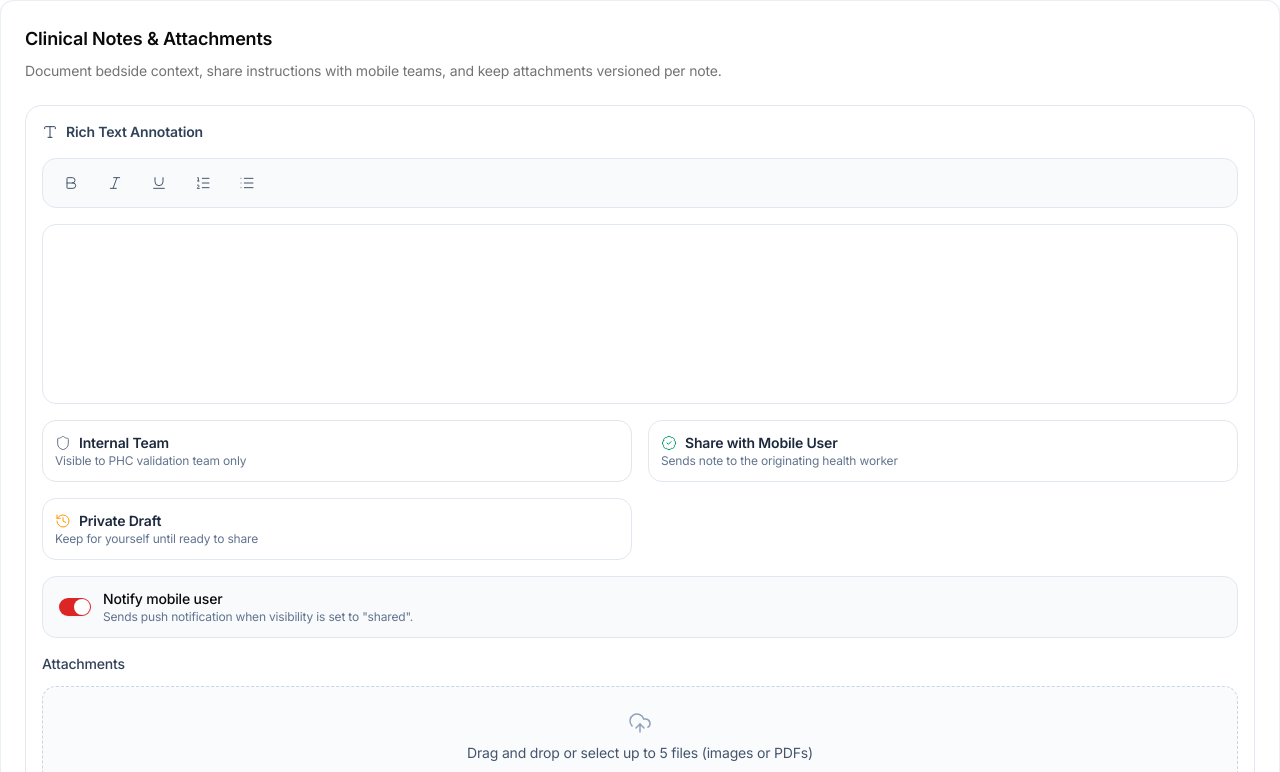
Test case: ClinicalNotesEditor › Visibility Options › disables mobile notification toggle when visibility is not shared
This screenshot has width=1280, height=772.
Expected: the switch is disabled, [59, 598, 91, 616]
# Change to 'shared'
Click the button "Share with Mobile User". click: (761, 442)
box: [648, 420, 1238, 482]
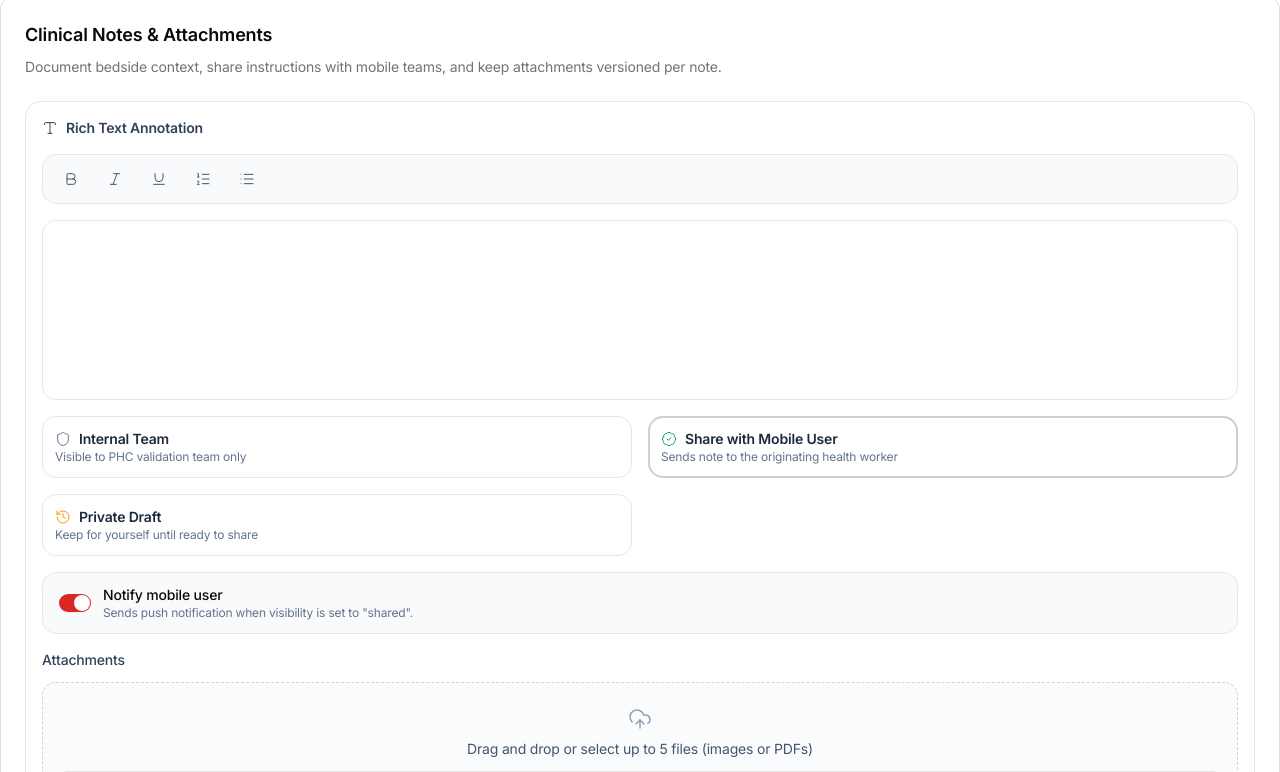
Expected: the switch is enabled, [59, 594, 91, 612]
